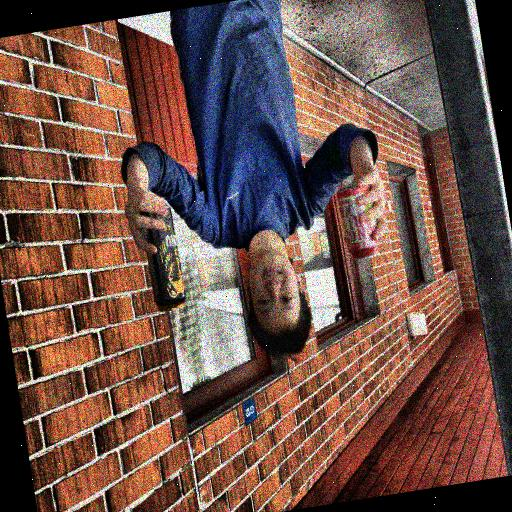karhu: (123, 194, 192, 326)
koff: (328, 174, 386, 269)
